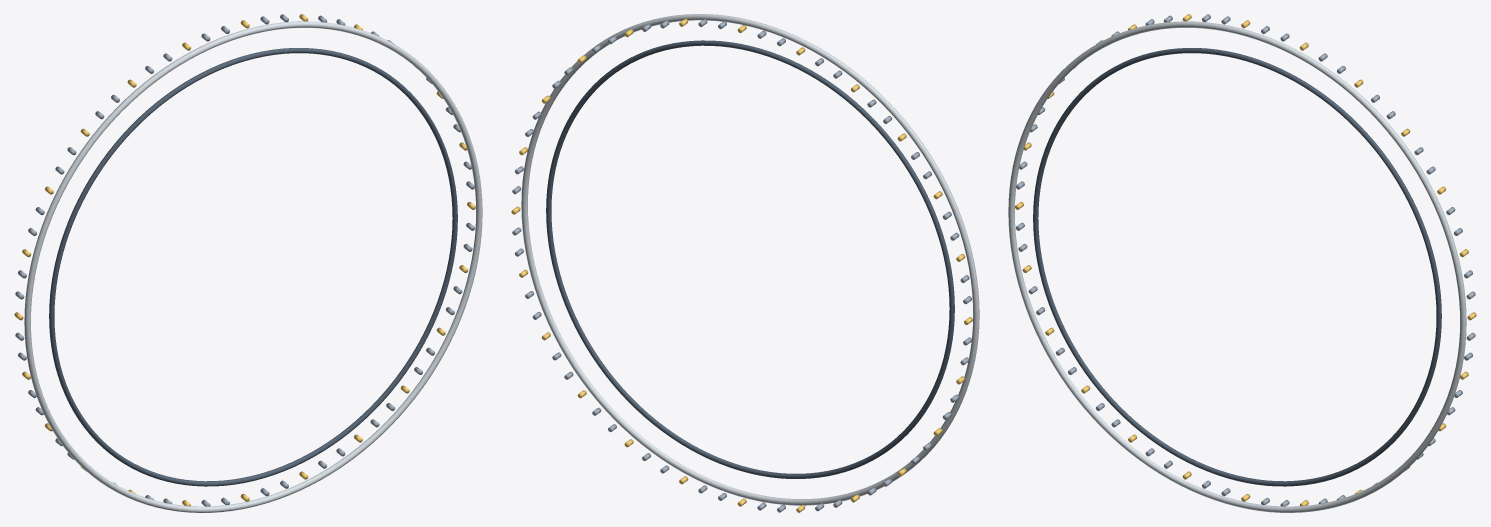
File: 11_L87_HabitatPressureShellRing.glb
The picture shows the model from 3 angles, left to right: view 1: azimuth 30°, elevation 25°; view 2: azimuth 150°, elevation 25°; view 3: azimuth 330°, elevation 25°; orthographic projection.
Parts seen in each view (by area): view 1: L87_HabitatPressureShellRing_Part_0001, L87_HabitatPressureShellRing_Part_0000, L87_HabitatPressureShellRing_Part_0002, L87_HabitatPressureShellRing_Part_0004, L87_HabitatPressureShellRing_Part_0005, L87_HabitatPressureShellRing_Part_0006; view 2: L87_HabitatPressureShellRing_Part_0001, L87_HabitatPressureShellRing_Part_0000, L87_HabitatPressureShellRing_Part_0002, L87_HabitatPressureShellRing_Part_0004, L87_HabitatPressureShellRing_Part_0005, L87_HabitatPressureShellRing_Part_0006; view 3: L87_HabitatPressureShellRing_Part_0001, L87_HabitatPressureShellRing_Part_0000, L87_HabitatPressureShellRing_Part_0004, L87_HabitatPressureShellRing_Part_0002, L87_HabitatPressureShellRing_Part_0005.
Part boxes in pixels (x1,y1,x2,y2): L87_HabitatPressureShellRing_Part_0001: [24, 21, 482, 512]; L87_HabitatPressureShellRing_Part_0000: [49, 48, 457, 486]; L87_HabitatPressureShellRing_Part_0002: [14, 14, 475, 506]; L87_HabitatPressureShellRing_Part_0004: [95, 14, 474, 189]; L87_HabitatPressureShellRing_Part_0005: [15, 147, 229, 506]; L87_HabitatPressureShellRing_Part_0006: [260, 222, 474, 496]; L87_HabitatPressureShellRing_Part_0001: [521, 14, 979, 505]; L87_HabitatPressureShellRing_Part_0000: [546, 40, 954, 478]; L87_HabitatPressureShellRing_Part_0002: [511, 18, 972, 512]; L87_HabitatPressureShellRing_Part_0004: [512, 19, 892, 194]; L87_HabitatPressureShellRing_Part_0005: [757, 152, 972, 512]; L87_HabitatPressureShellRing_Part_0006: [512, 227, 726, 500]; L87_HabitatPressureShellRing_Part_0001: [1008, 21, 1466, 512]; L87_HabitatPressureShellRing_Part_0000: [1033, 48, 1441, 486]; L87_HabitatPressureShellRing_Part_0004: [1096, 14, 1475, 299]; L87_HabitatPressureShellRing_Part_0002: [1015, 14, 1476, 479]; L87_HabitatPressureShellRing_Part_0005: [1016, 66, 1230, 496].
Bounding box in the file's own units: 11.18 × 11.18 × 0.5189.
